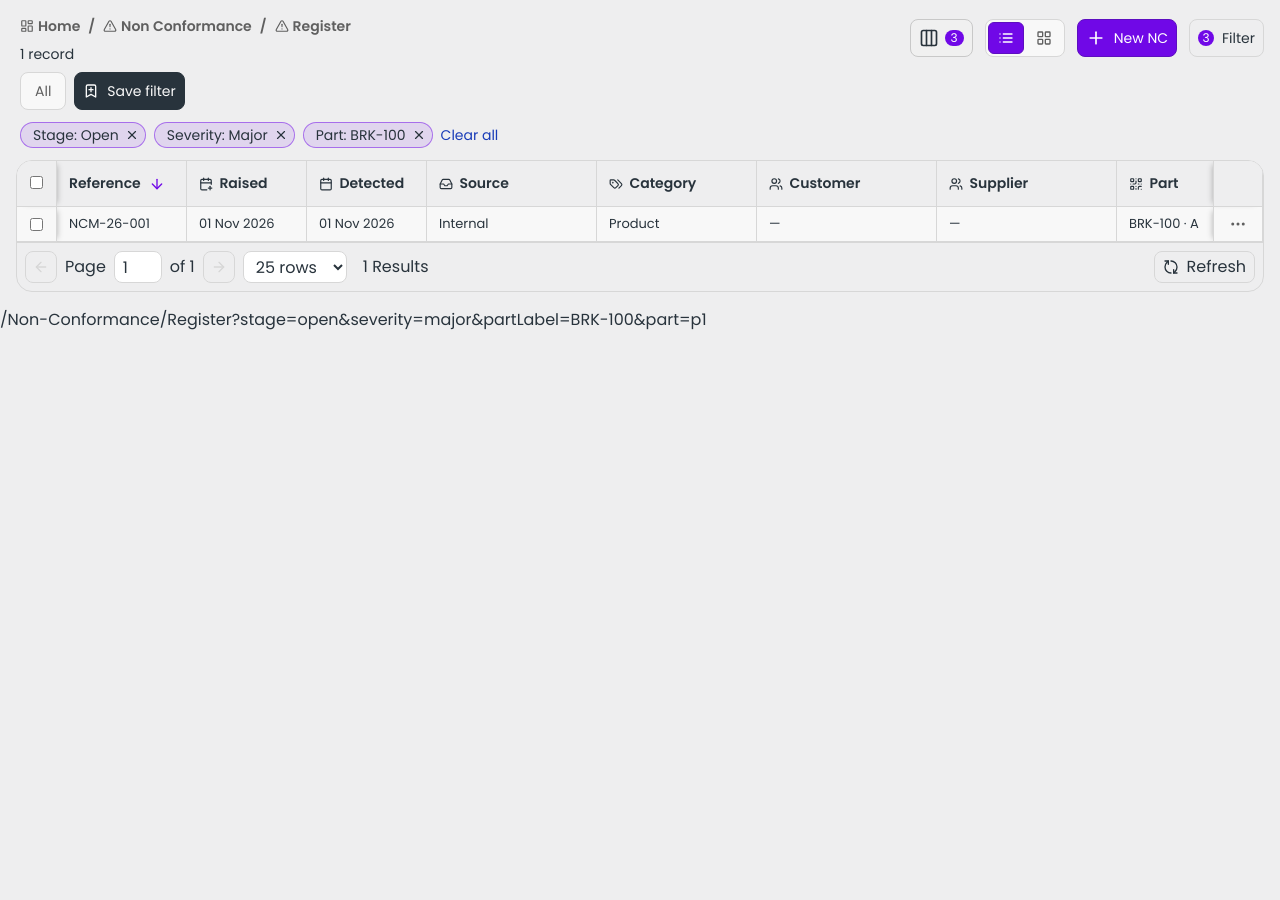
it: NC registers › saved filters › are saved from the filters chosen, under a name, and appear at once
The width and height of the screenshot is (1280, 900).
Expected: the text "NCM-26-001" is shown, [65, 214, 154, 234]
Click the button "Save filter" at x=130, y=91, box [74, 72, 185, 110]
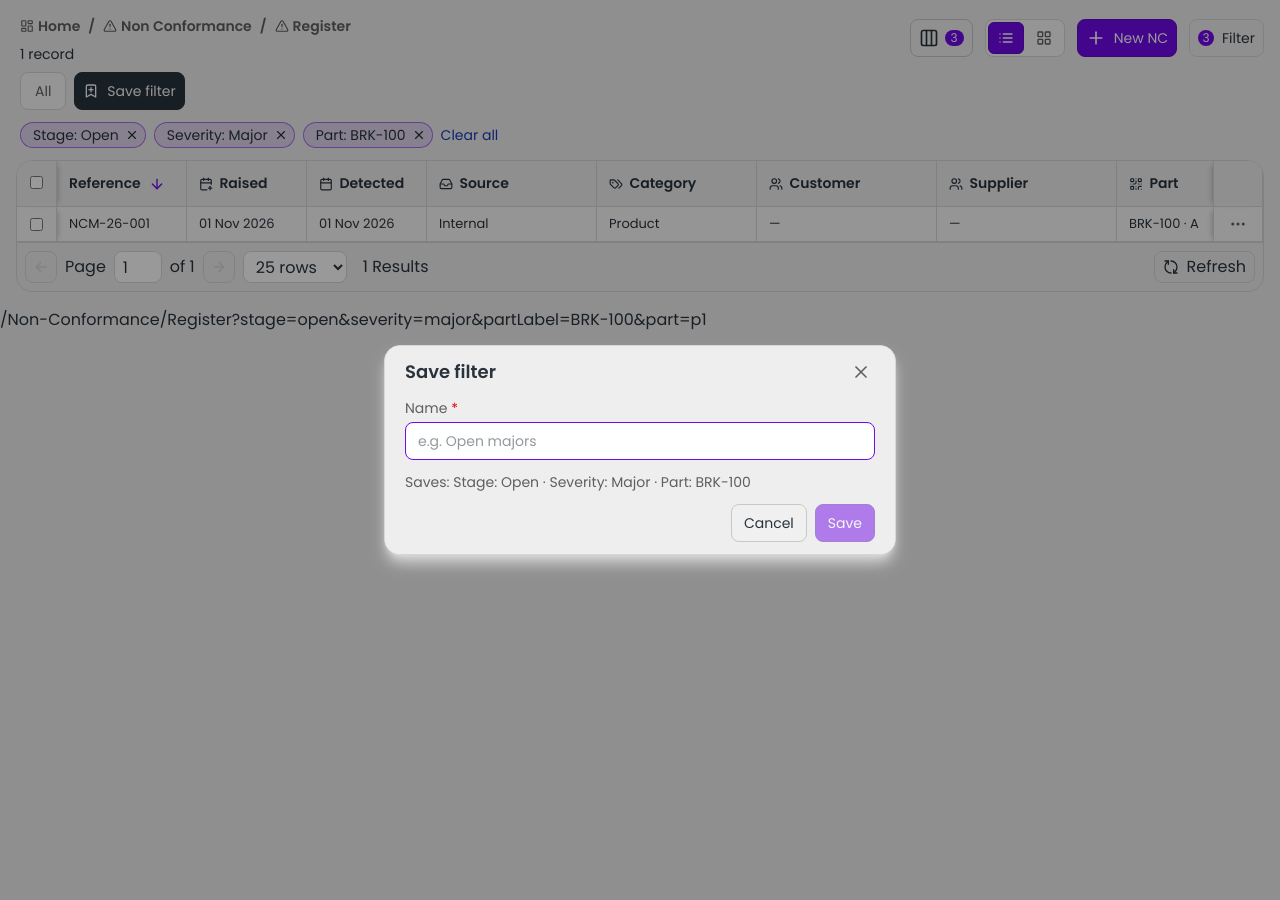
Expected: the dialog "Save filter" shows "Saves:", [405, 472, 450, 492]
Expected: the dialog "Save filter" shows "Stage: Open", [453, 472, 751, 492]
Expected: the button "Save" is disabled, [815, 504, 875, 542]
Type "  Open majors  " into the field labelled "Name" at x=640, y=441, box [405, 422, 875, 460]
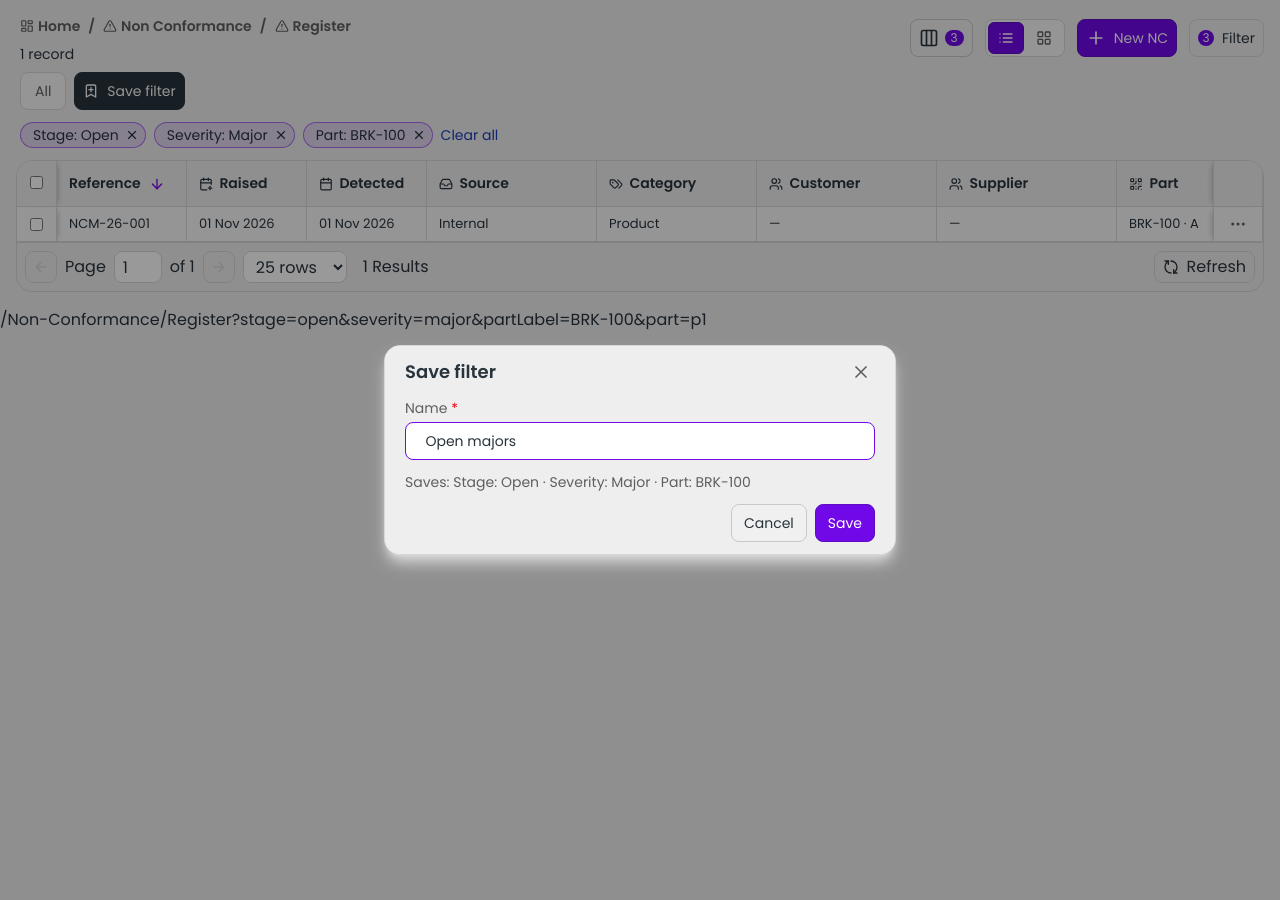
Click the button "Save" at x=845, y=523, box [815, 504, 875, 542]
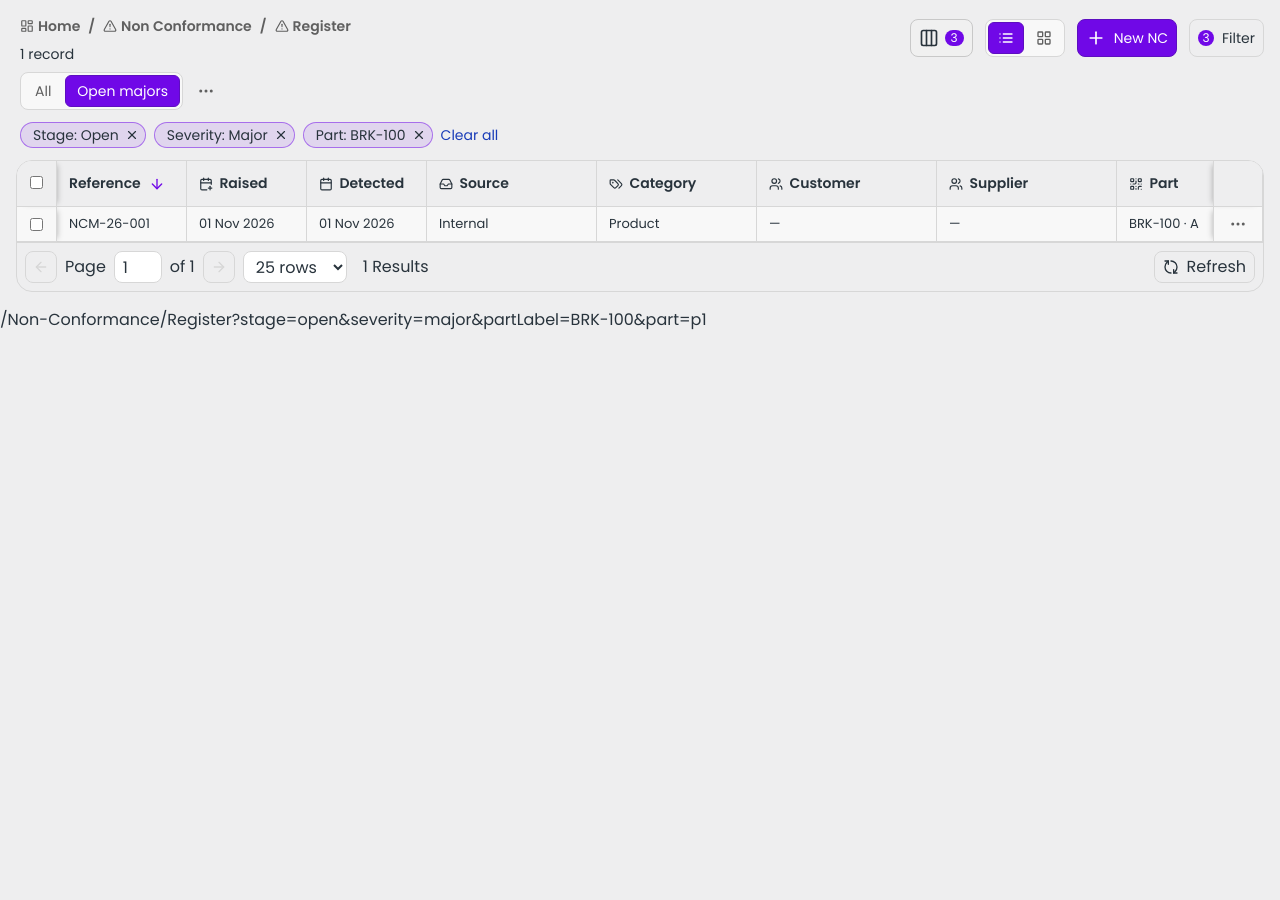
Expected: the heading "Save filter" is gone
